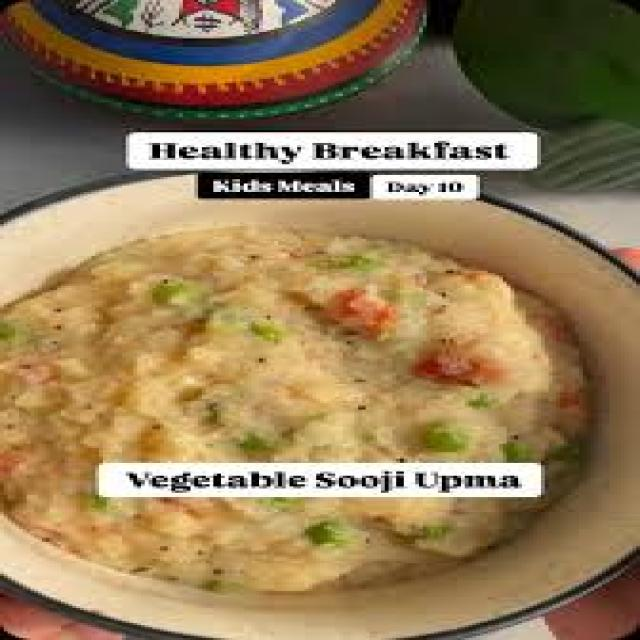UPMA: (0, 222, 575, 459)
